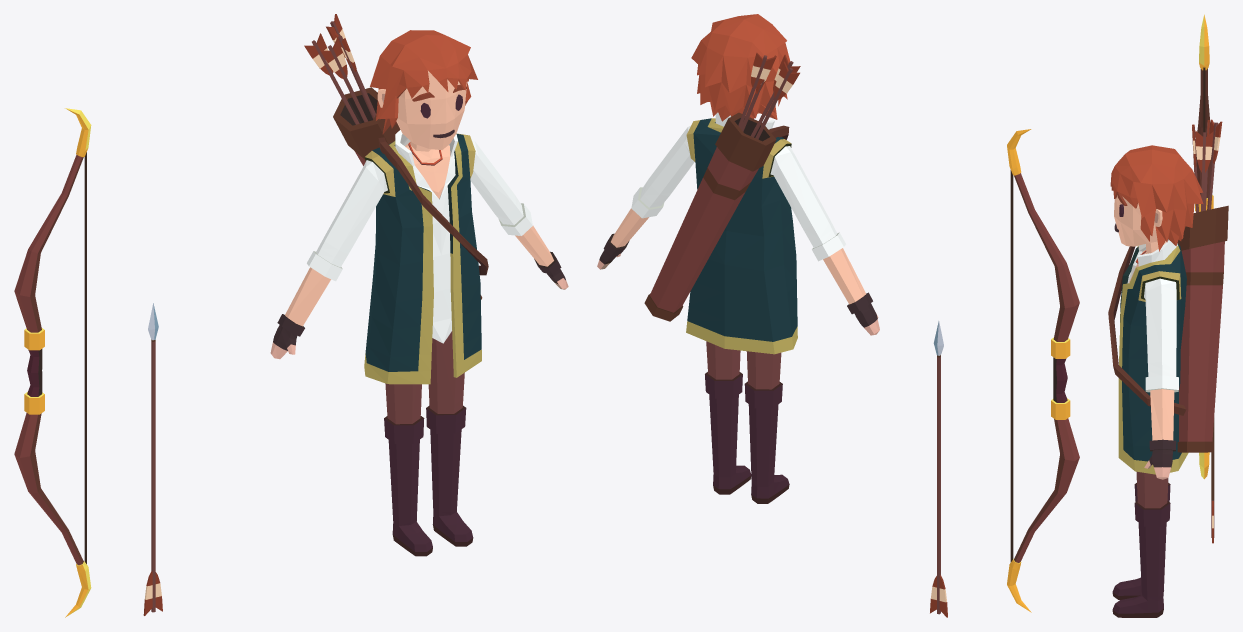
File: hero_archer.glb
3 renders of one model, left to right at view 1: azimuth 30°, elevation 25°; view 2: azimuth 150°, elevation 25°; view 3: azimuth 270°, elevation 25°, orthographic. The views are drawn at different scales.
Parts seen in each view (by area): view 1: Object_4; view 2: Object_4; view 3: Object_4.
Part boxes in pixels (x1,y1,x2,y2): Object_4: [14, 14, 568, 617]; Object_4: [597, 14, 1079, 617]; Object_4: [1108, 14, 1228, 617].
Size of the model in its own units: 4.95 by 4.94 by 1.08.
1 material, 1 textured.
